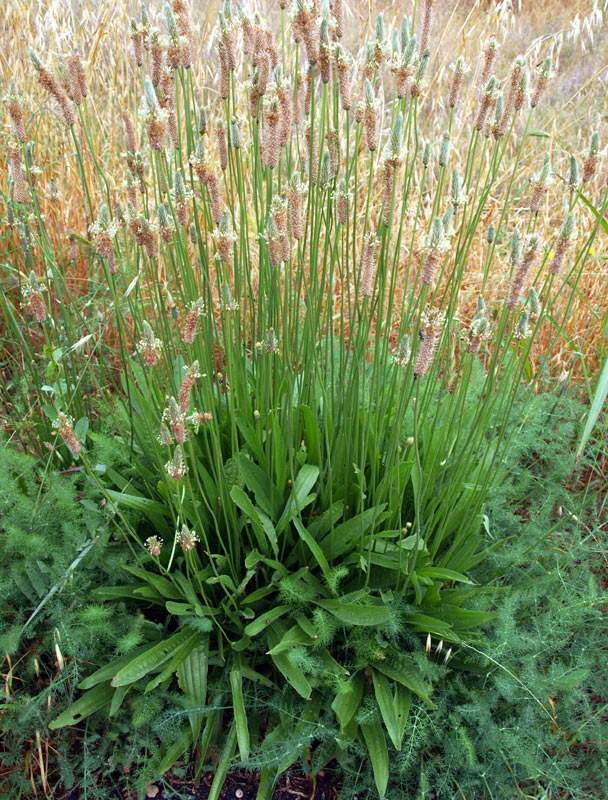buckhorn plantain: (29, 42, 516, 669)
